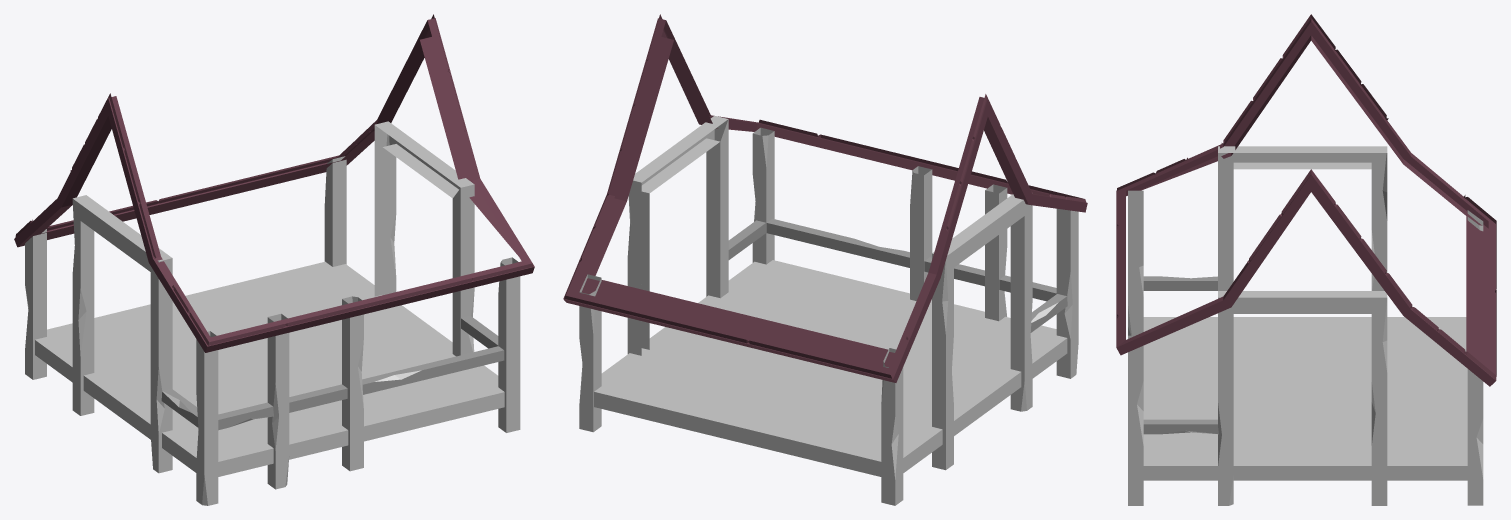
The model's file is House_Stage_01.fbx.
3 views of the same model, side by side, from view 1: azimuth 30°, elevation 25°; view 2: azimuth 150°, elevation 25°; view 3: azimuth 270°, elevation 25° (orthographic). The views are drawn at different scales.
Visible parts, largest first — view 1: House_5; view 2: House_5; view 3: House_5.
Part boxes in pixels (x1,y1,x2,y2): House_5: (14, 14, 534, 505); House_5: (563, 14, 1087, 505); House_5: (1116, 14, 1496, 505).
Size of the model in its own units: 158 by 160 by 162.
